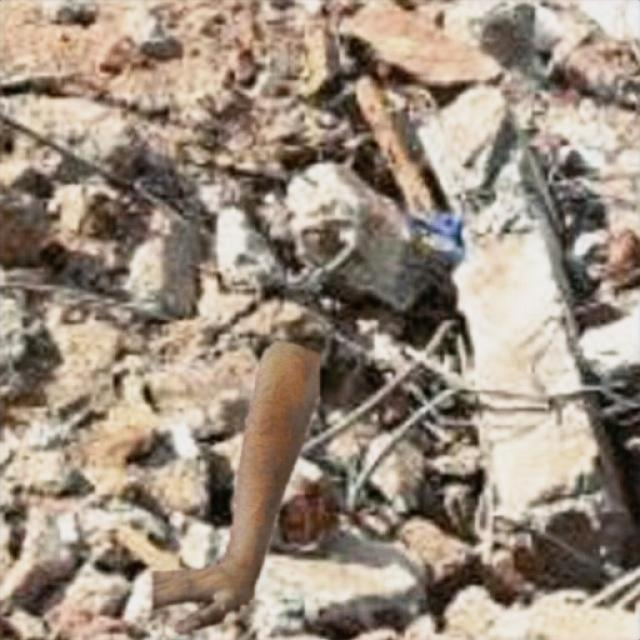Person in Rubble: (152, 338, 318, 632)
